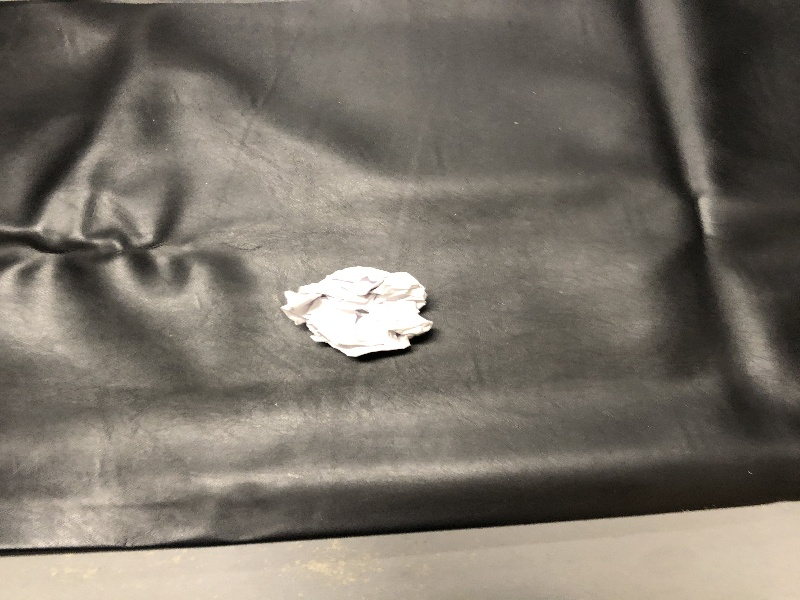paper: (274, 252, 440, 369)
